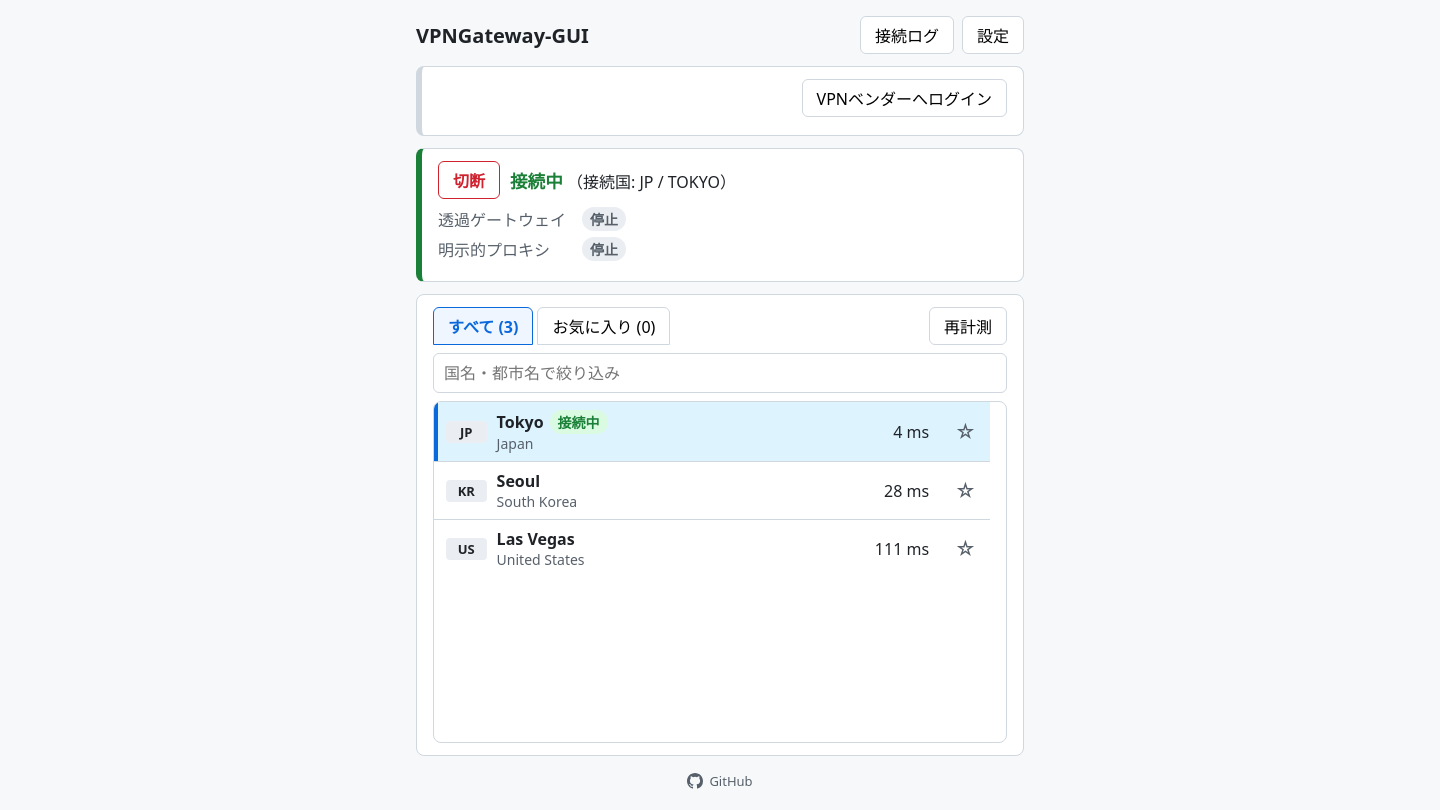
Scenario: App › 接続中は［切断］のみ。別の接続先を選ぶと［接続先を変更］が現れ、押すと選択した接続先へ切り替える
Expected: the text "（接続国: JP / TOKYO）" is shown, [563,170,736,192]
Expected: the button "切断" is shown, [438,161,500,199]
Step 1. Click the radio button labelled "JP Tokyo 接続中 Japan 4 ms" → (466, 432), box [434,402,941,461]
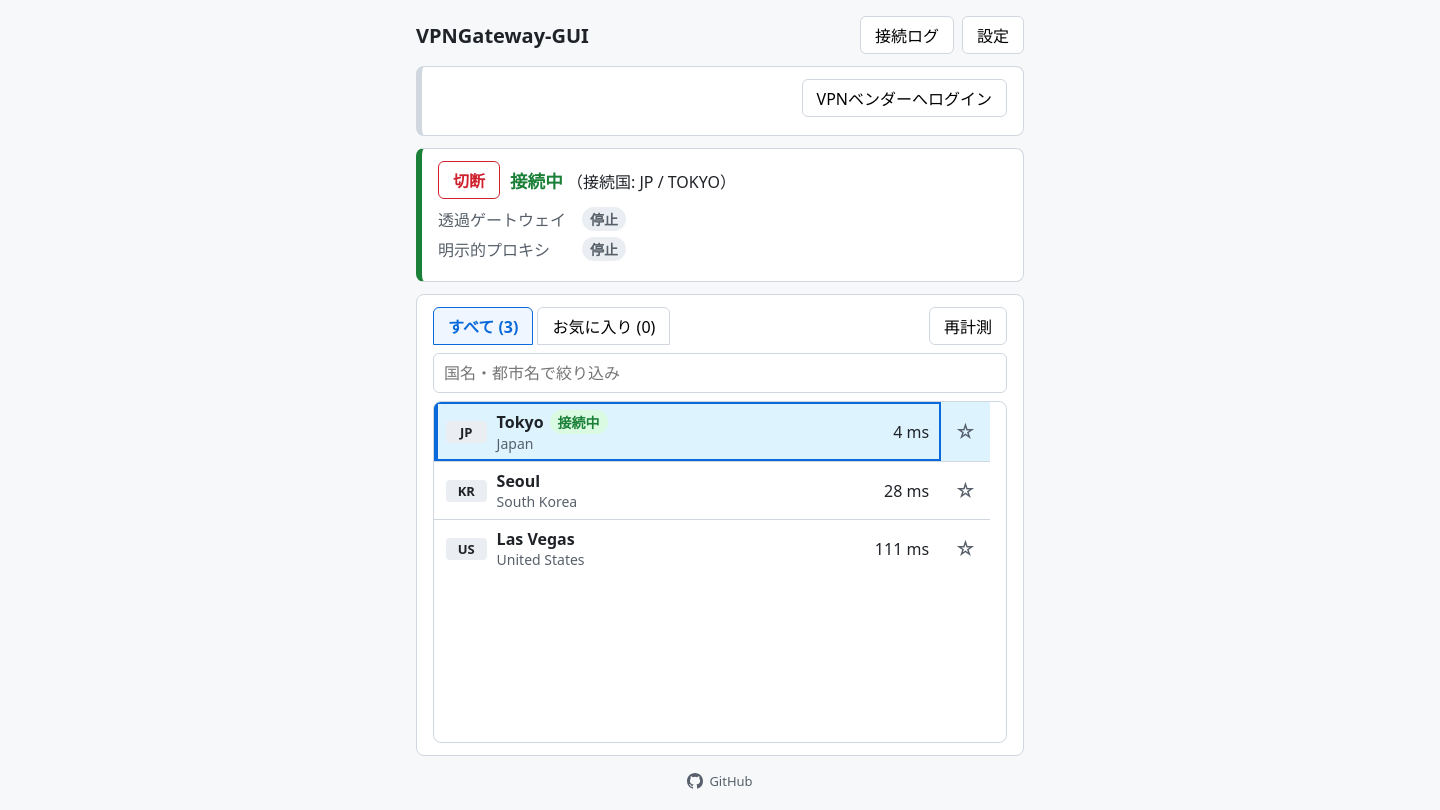
Expected: the button "接続先を変更" is not shown
Step 2. Click the radio button labelled "KR Seoul South Korea 28 ms" → (466, 490), box [434,462,941,519]
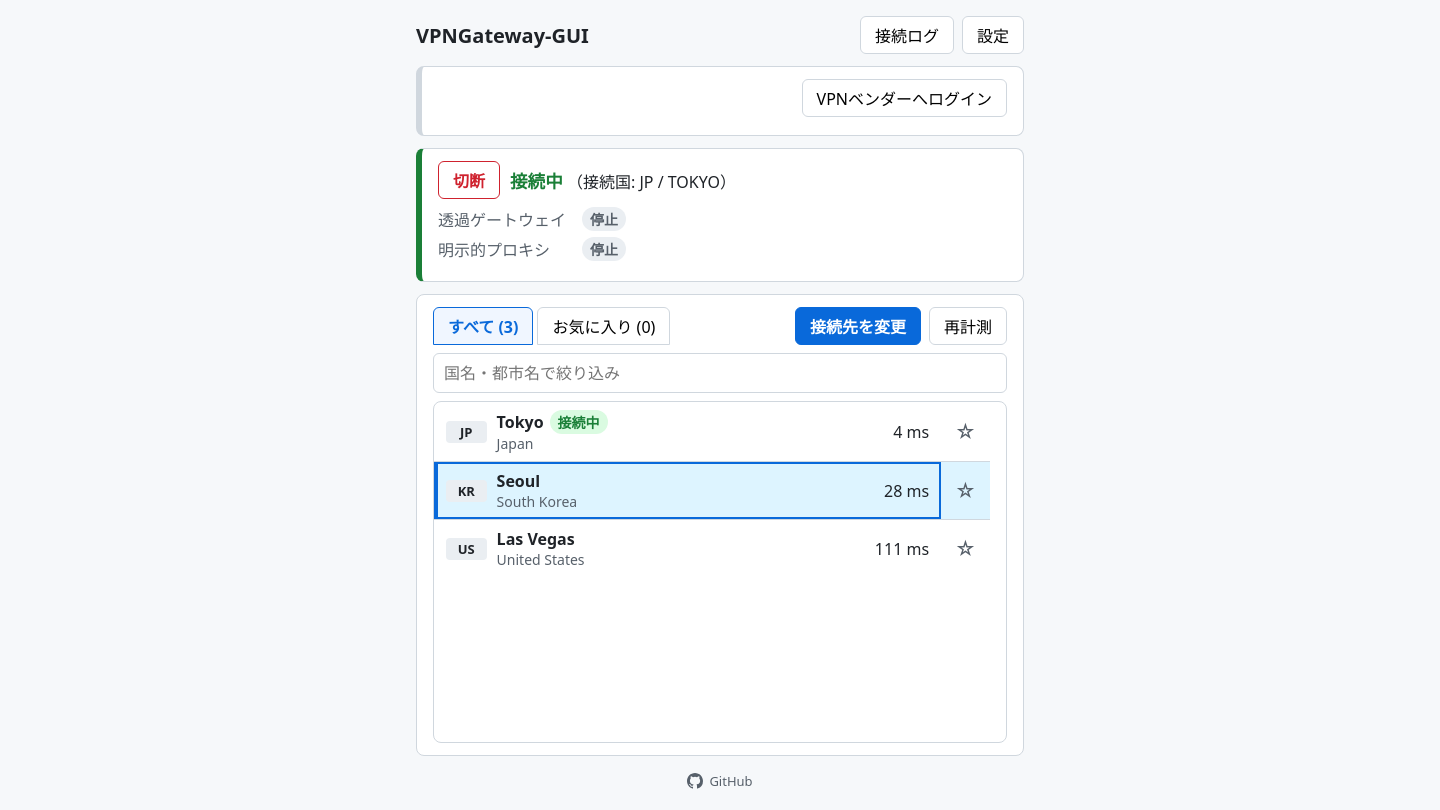
Expected: the button "切断" is shown, [438,161,500,199]
Step 3. Click the button "接続先を変更" → (858, 326), box [795,307,921,345]
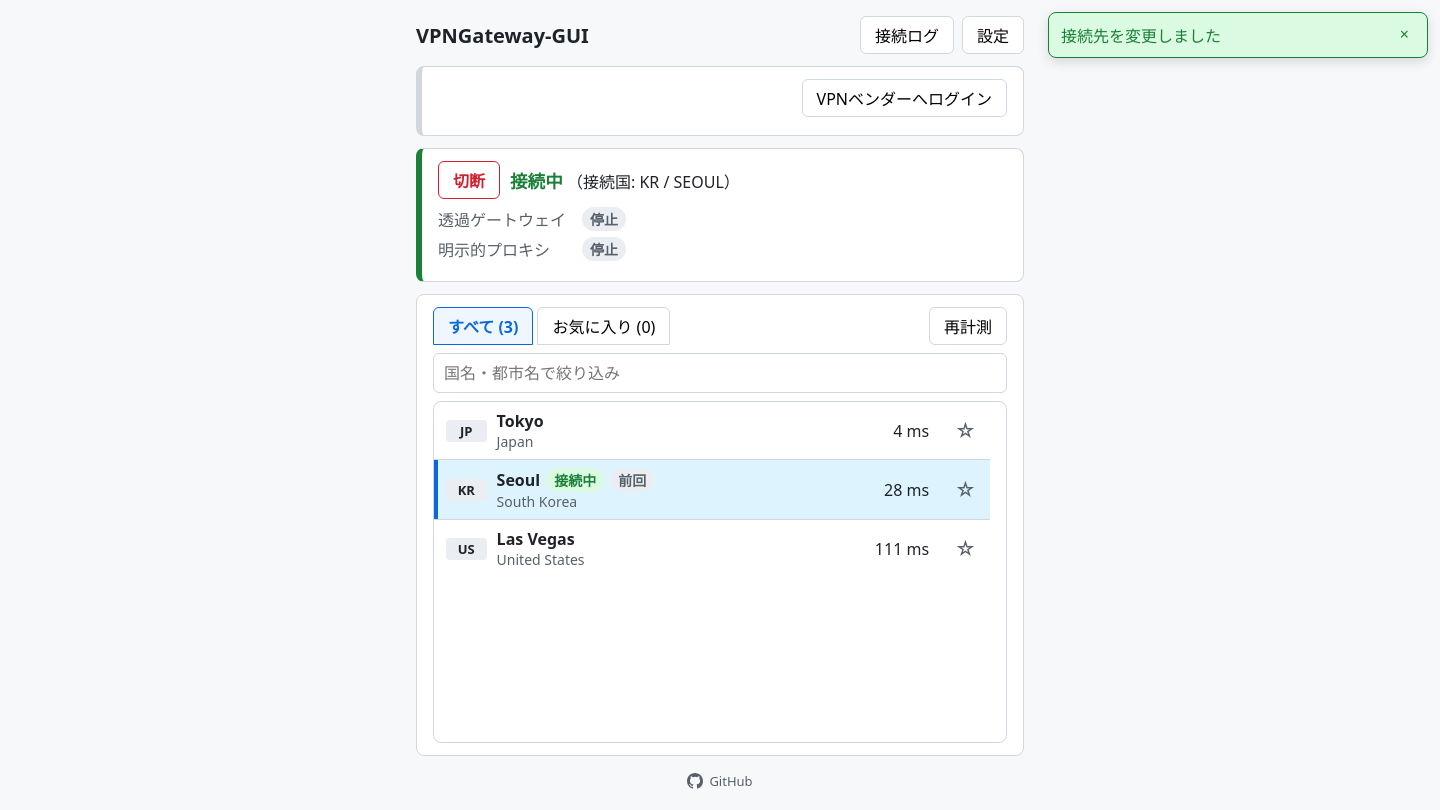
Result: the message shows "接続先を変更しました" at [1061,25,1221,47]
Result: the text "（接続国: KR / SEOUL）" is shown at [563,170,740,192]
